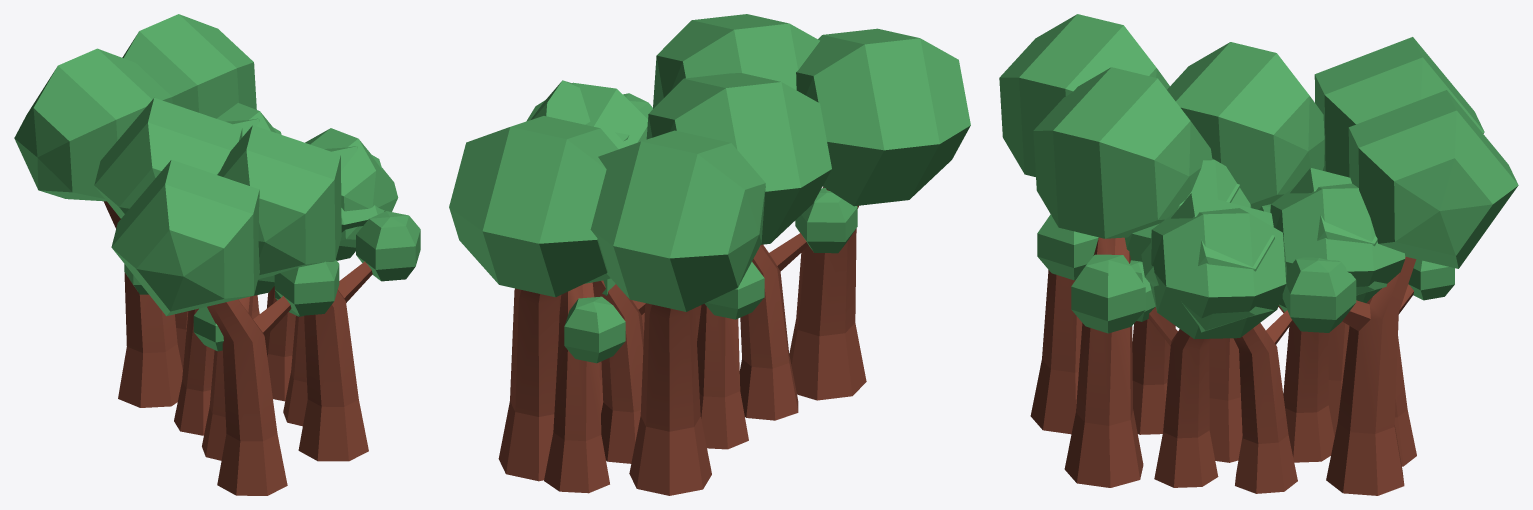
File: tree clump.fbx
3 renders of one model, left to right at view 1: azimuth 30°, elevation 25°; view 2: azimuth 150°, elevation 25°; view 3: azimuth 270°, elevation 25°, orthographic. The views are drawn at different scales.
Parts seen in each view (by area): view 1: pCylinder45, pCylinder35, pCylinder44, pCylinder34, pCylinder40, pCylinder37, pCylinder46, pCylinder36, pCylinder47, pCylinder41, pCylinder42; view 2: pCylinder44, pCylinder45, pCylinder34, pCylinder40, pCylinder41, pCylinder47, pCylinder35, pCylinder46, pCylinder42, pCylinder36, pCylinder37; view 3: pCylinder34, pCylinder35, pCylinder37, pCylinder40, pCylinder45, pCylinder42, pCylinder36, pCylinder44, pCylinder47, pCylinder41.
Boxes of the visible parts, x1,y1,x2,y2 form: pCylinder45: [111, 159, 339, 495]; pCylinder35: [218, 125, 420, 461]; pCylinder44: [14, 48, 182, 407]; pCylinder34: [122, 14, 259, 318]; pCylinder40: [94, 97, 253, 318]; pCylinder37: [275, 128, 398, 426]; pCylinder46: [124, 264, 274, 435]; pCylinder36: [265, 146, 384, 401]; pCylinder47: [193, 275, 274, 460]; pCylinder41: [175, 118, 281, 369]; pCylinder42: [217, 103, 276, 132]; pCylinder44: [590, 130, 765, 495]; pCylinder45: [789, 28, 970, 400]; pCylinder34: [449, 116, 618, 481]; pCylinder40: [646, 73, 831, 340]; pCylinder41: [544, 273, 625, 493]; pCylinder47: [739, 187, 857, 420]; pCylinder35: [623, 14, 819, 118]; pCylinder46: [697, 262, 764, 449]; pCylinder42: [592, 280, 645, 463]; pCylinder36: [526, 82, 647, 412]; pCylinder37: [531, 80, 644, 335]; pCylinder34: [1282, 90, 1518, 495]; pCylinder35: [1033, 67, 1212, 487]; pCylinder37: [1130, 208, 1286, 487]; pCylinder40: [1167, 42, 1324, 462]; pCylinder45: [999, 14, 1169, 434]; pCylinder42: [1270, 183, 1405, 462]; pCylinder36: [1141, 193, 1297, 493]; pCylinder44: [1259, 37, 1484, 436]; pCylinder47: [1125, 158, 1251, 434]; pCylinder41: [1290, 167, 1454, 466].
Size of the model in its own units: 13.34 by 12.6 by 16.43.
